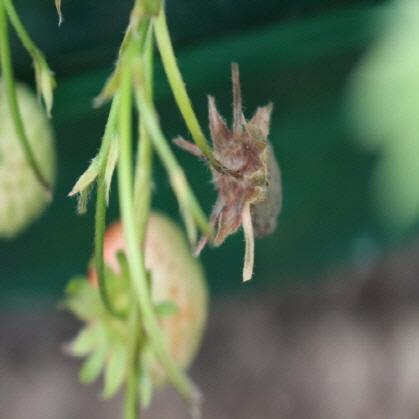Gray Mold: (171, 61, 282, 283)
